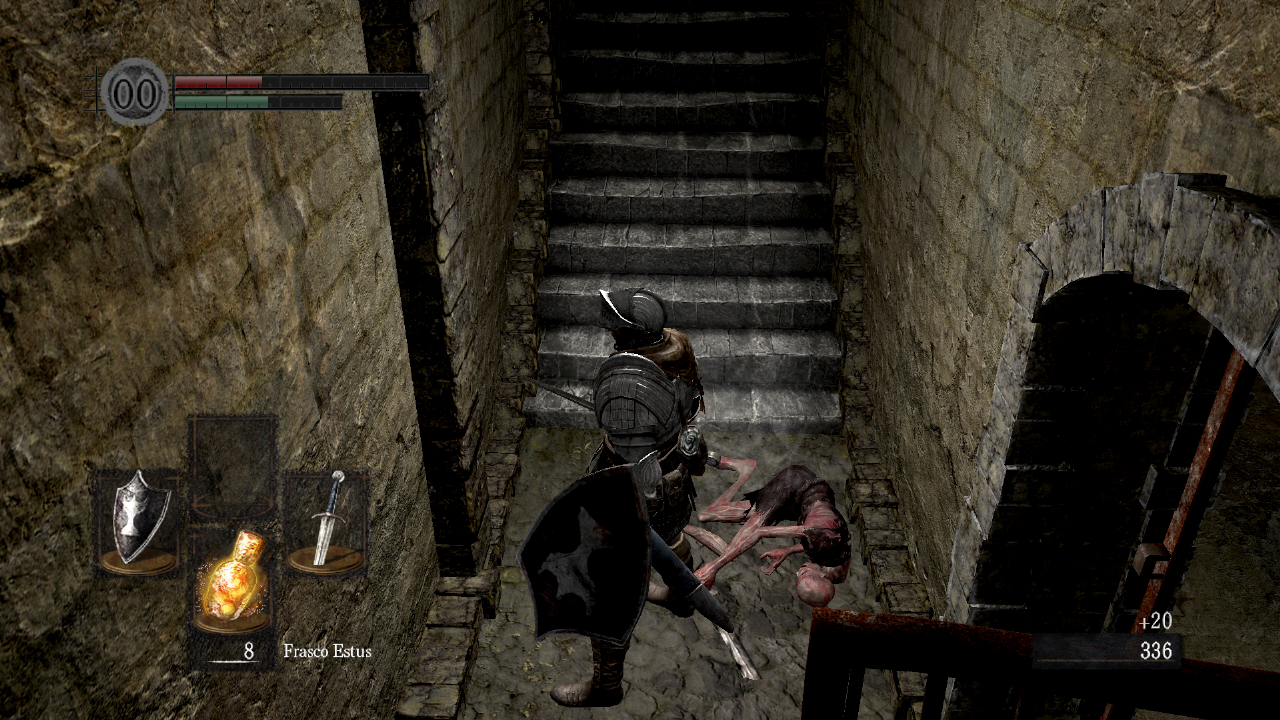hollow: (682, 454, 852, 608)
player: (517, 288, 735, 708)
